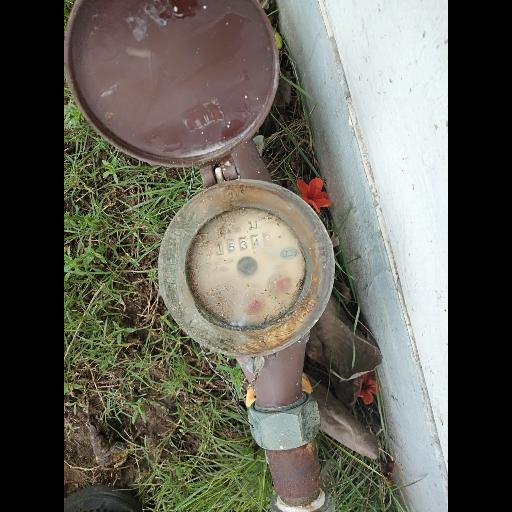1: (215, 241, 224, 256)
3: (238, 237, 248, 252), (264, 232, 273, 247)
4: (252, 235, 261, 250)
5: (226, 239, 236, 254)
border_water_meter_number: (214, 232, 272, 256)
